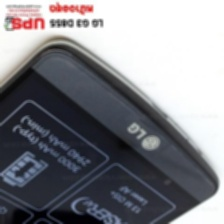phone: (0, 37, 221, 223)
